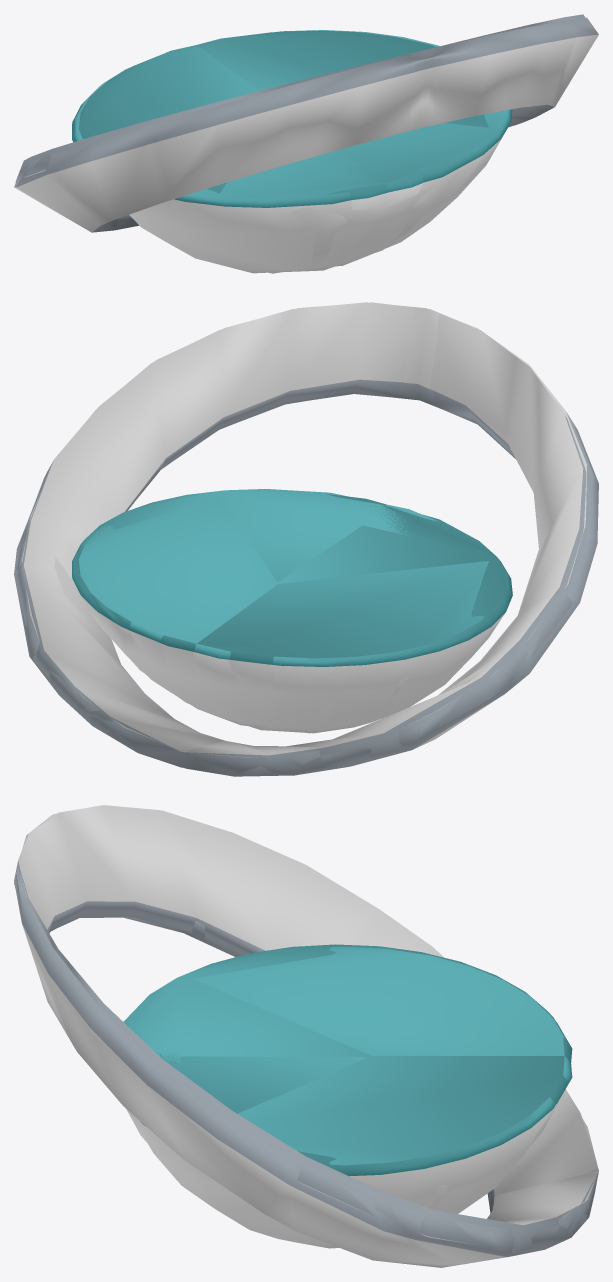
File: SciFi_Chair.glb
3 views of the same model, one above another, from view 1: azimuth 30°, elevation 25°; view 2: azimuth 150°, elevation 25°; view 3: azimuth 270°, elevation 25° (orthographic). The views are drawn at different scales.
Parts seen in each view (by area): view 1: SciFi_Chair; view 2: SciFi_Chair; view 3: SciFi_Chair.
Boxes of the visible parts, x1,y1,x2,y2 form: SciFi_Chair: (14,14,598,273); SciFi_Chair: (14,302,598,776); SciFi_Chair: (14,805,598,1267).
Bounding box in the file's own units: 0.828 × 0.4528 × 0.6672.
